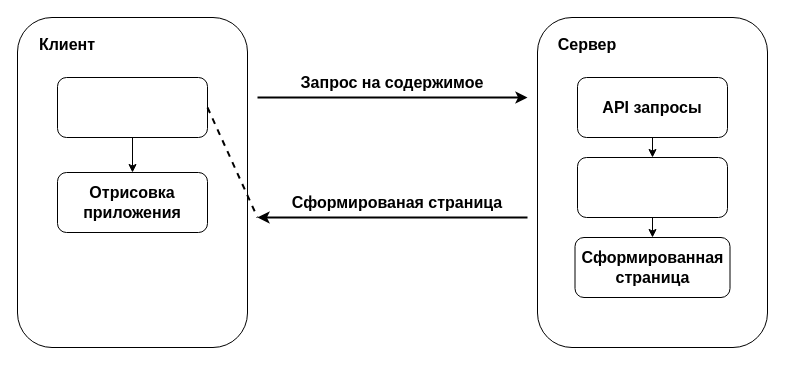
Image size: 785x365. Some labels were removed from this diagram. The box of each missing label's shape, as (x1, y1, x2, y2) in pixels:
Обработка страницы: (56, 76, 208, 138)
Формирование страницы: (576, 156, 728, 218)
